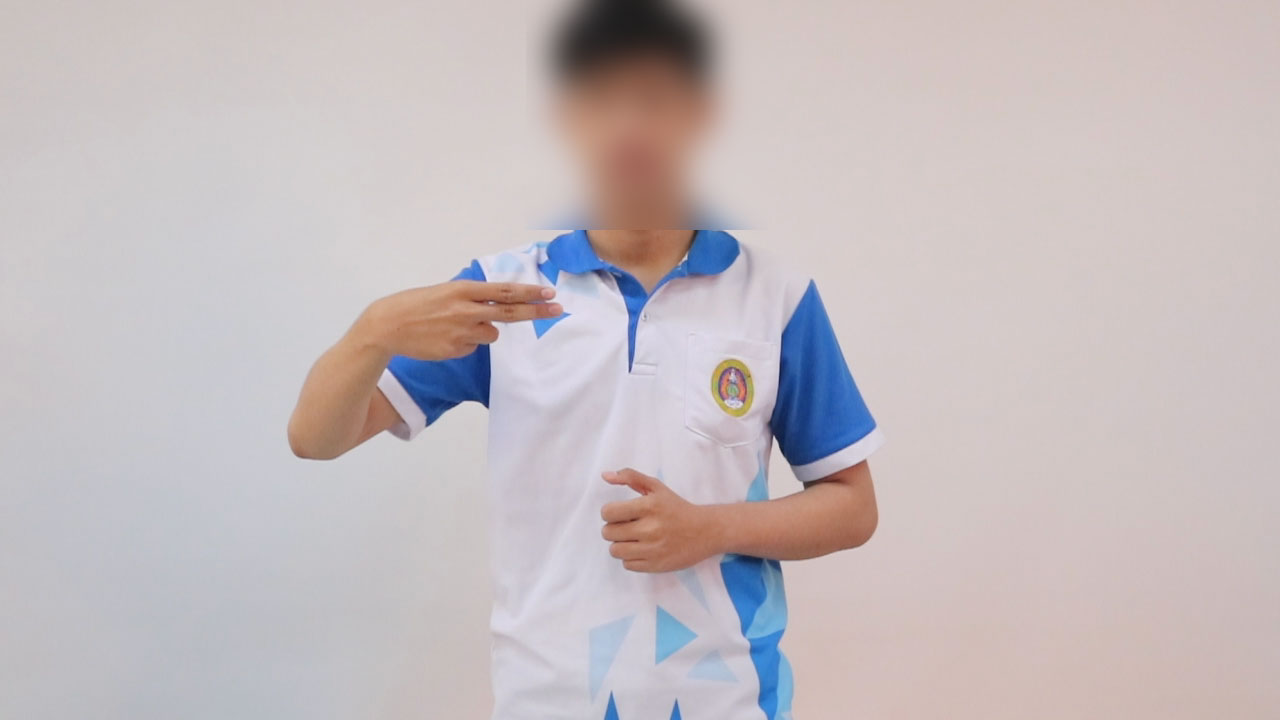hor: (343, 271, 573, 374)
